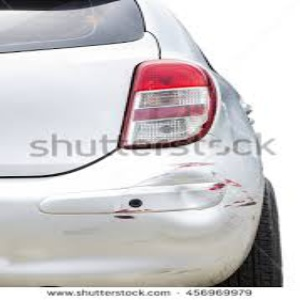bumper_scratch: (95, 158, 258, 281)
